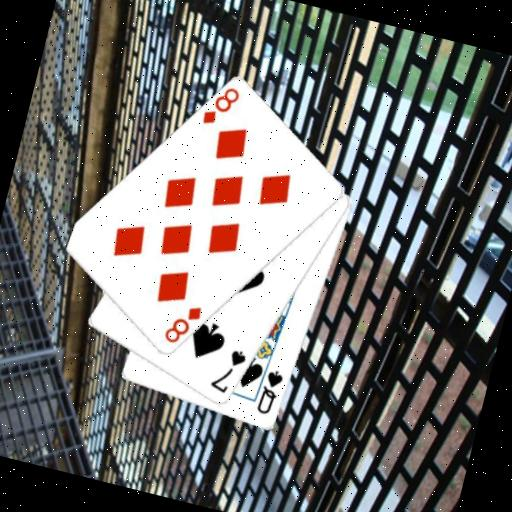7S: (206, 342, 251, 399)
8D: (159, 296, 205, 350), (198, 80, 244, 133)
QS: (252, 365, 287, 420)
